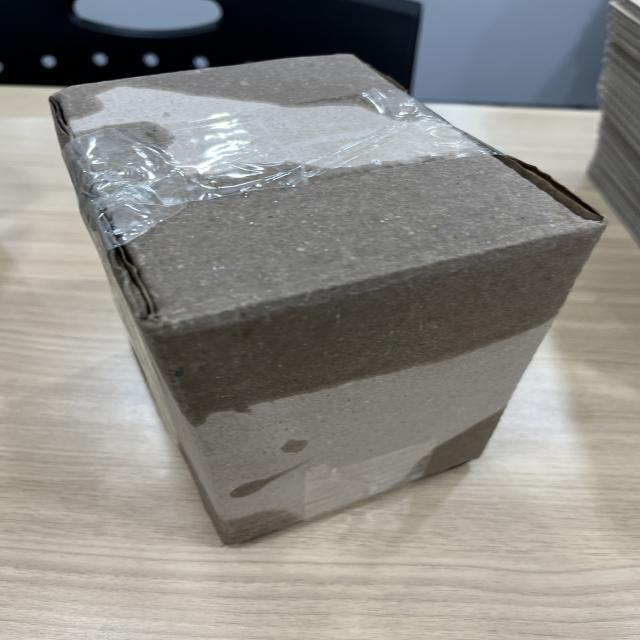wet: (108, 154, 603, 426), (72, 55, 426, 131), (408, 408, 503, 481)
